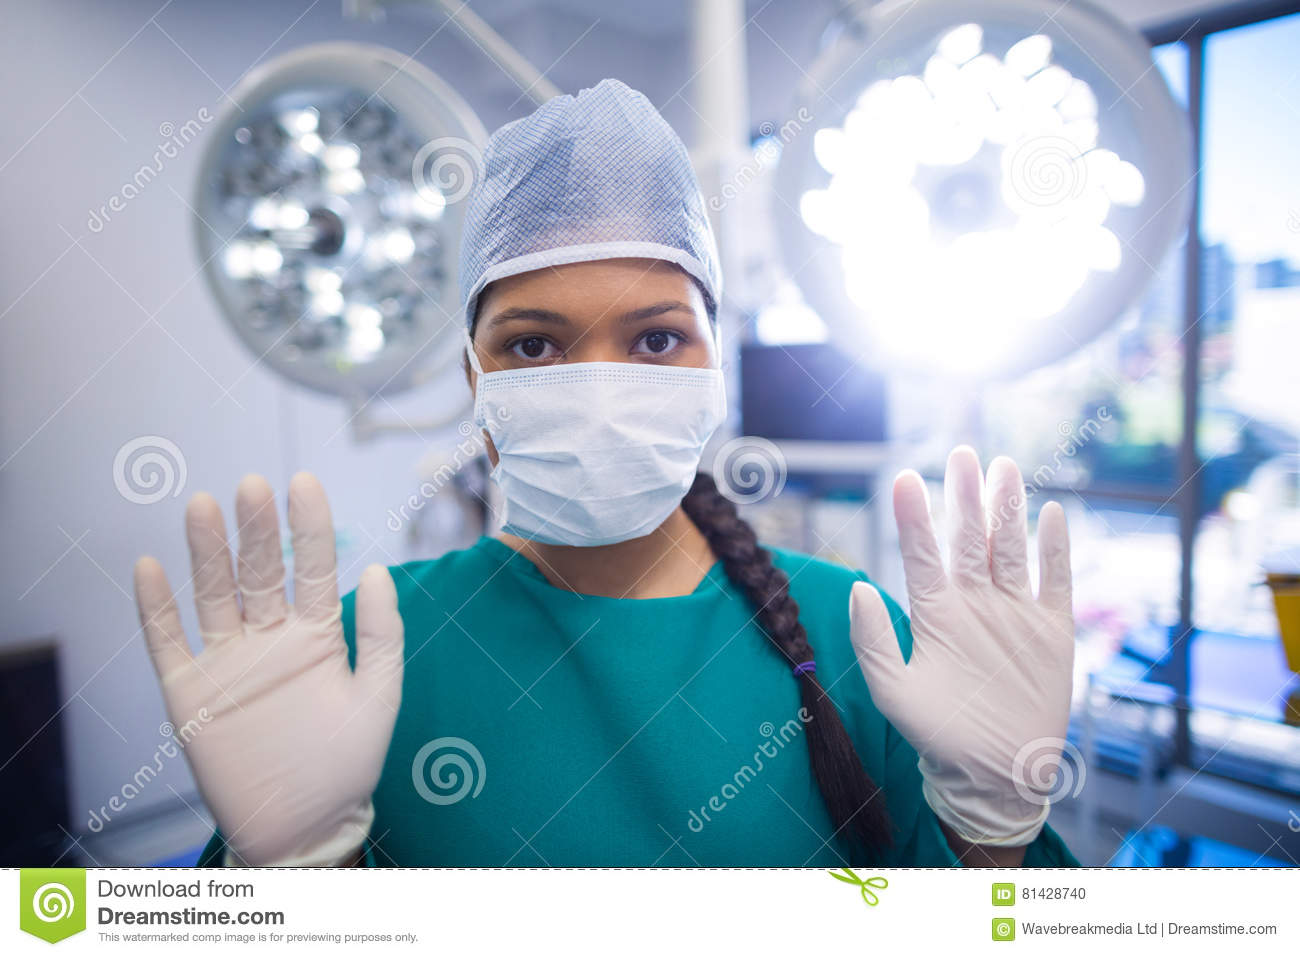mask: (489, 361, 750, 567)
